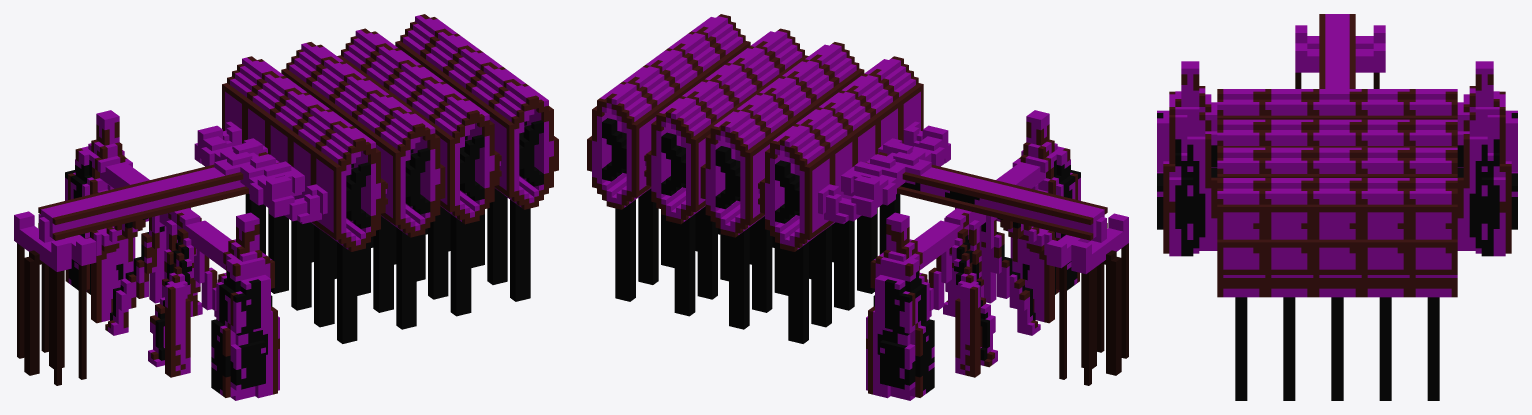
The model's file is OirRig3lvl.fbx.
3 views of the same model, side by side, from view 1: azimuth 30°, elevation 25°; view 2: azimuth 150°, elevation 25°; view 3: azimuth 270°, elevation 25° (orthographic). The views are drawn at different scales.
Parts seen in each view (by area): view 1: Untitled.001, Untitled; view 2: Untitled.001, Untitled; view 3: Untitled.001, Untitled.
Part boxes in pixels (bbox=[...]): Untitled.001: bbox=[14, 14, 558, 385]; Untitled: bbox=[65, 110, 279, 400]; Untitled.001: bbox=[587, 14, 1128, 385]; Untitled: bbox=[866, 110, 1080, 400]; Untitled.001: bbox=[1217, 14, 1457, 400]; Untitled: bbox=[1157, 61, 1517, 256].
Bounding box in the file's own units: 960 × 400 × 600.
